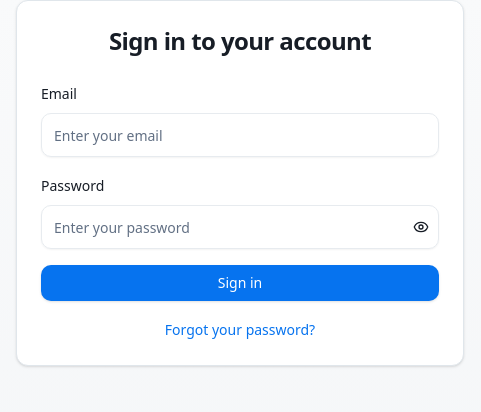
Test: LoginForm › form validation › should require password
Type "test@example.com" into the field labelled "Email".
click(240, 135); type("test@example.com")  # box [41, 113, 439, 157]
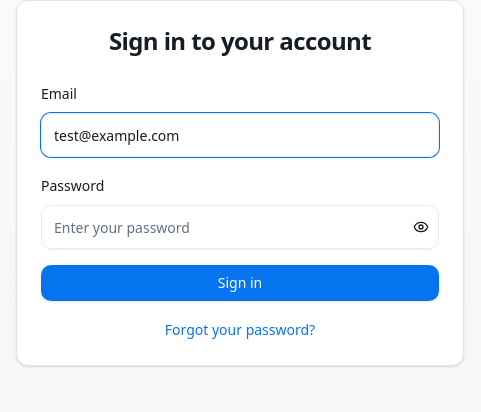
Click the button "Sign in".
click(240, 283)  # box [41, 265, 439, 301]
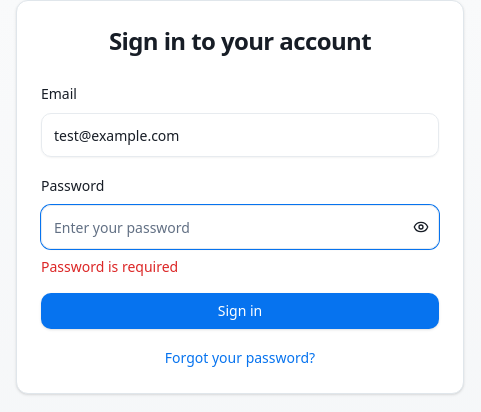
Result: the text "Password is required" is shown at [41, 257, 178, 276]
